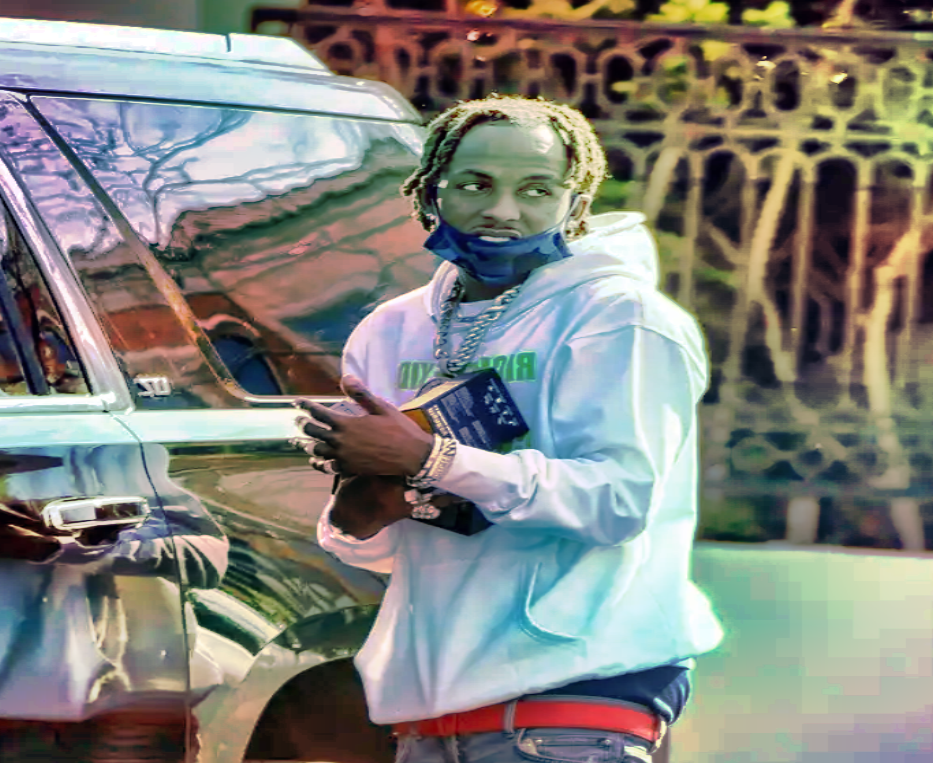mask_weared_incorrect: (404, 97, 603, 288)
